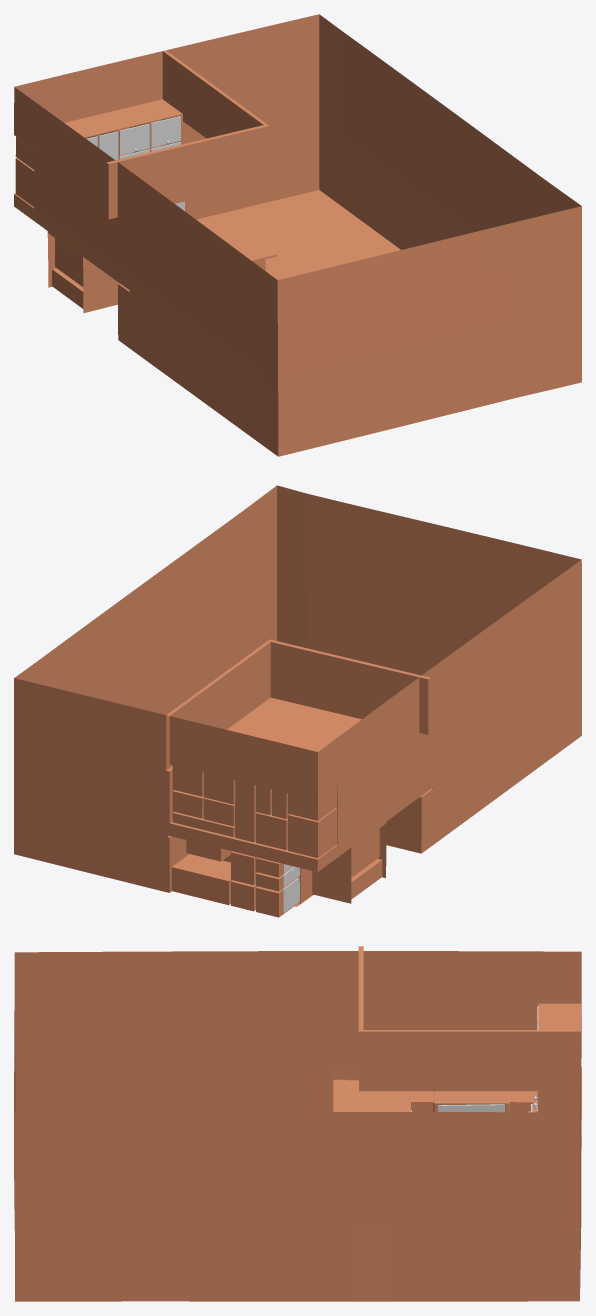
File: bottomCub1mshtemp.fbx
3 views of the same model, one above another, from view 1: azimuth 30°, elevation 25°; view 2: azimuth 150°, elevation 25°; view 3: azimuth 270°, elevation 25° (orthographic). The views are drawn at different scales.
Visible parts, largest first — view 1: cupboard, door.004; view 2: cupboard, door.004; view 3: cupboard, door.004.
Boxes of the visible parts, x1,y1,x2,y2 form: cupboard: (14, 14, 581, 456); door.004: (86, 116, 184, 210); cupboard: (14, 485, 581, 917); door.004: (282, 788, 337, 912); cupboard: (14, 946, 581, 1301); door.004: (411, 1006, 538, 1112).
Size of the model in its own units: 855 by 464 by 1247.
